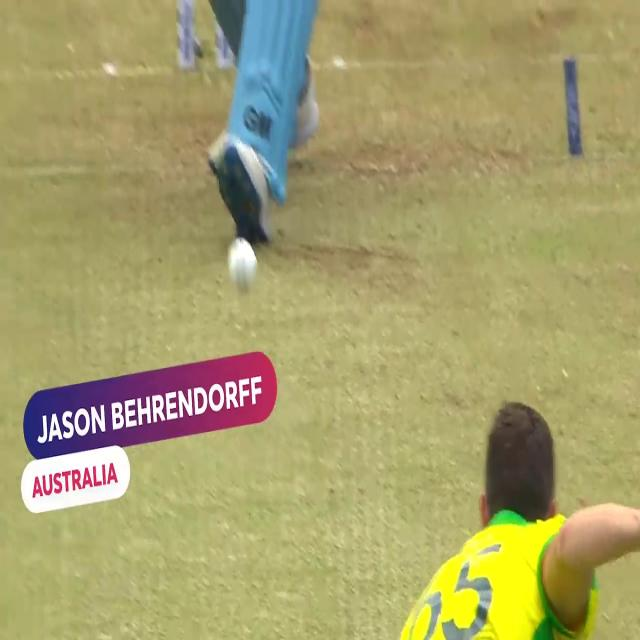ball: (224, 233, 258, 293)
